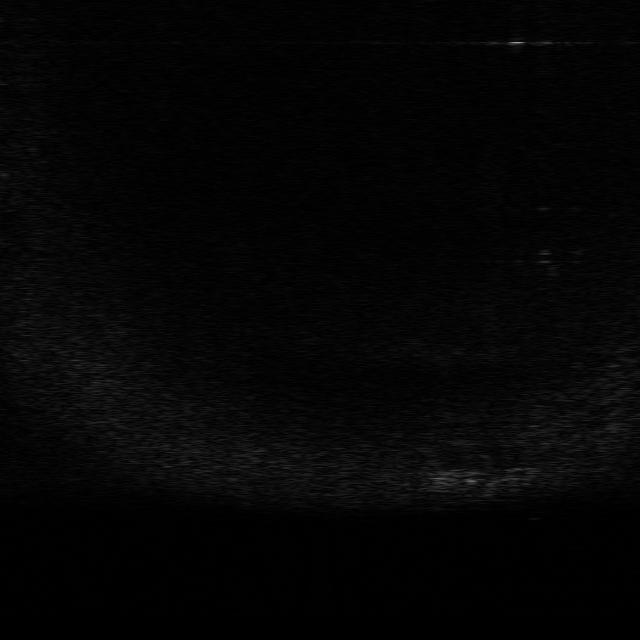plane: (426, 464, 545, 501)
